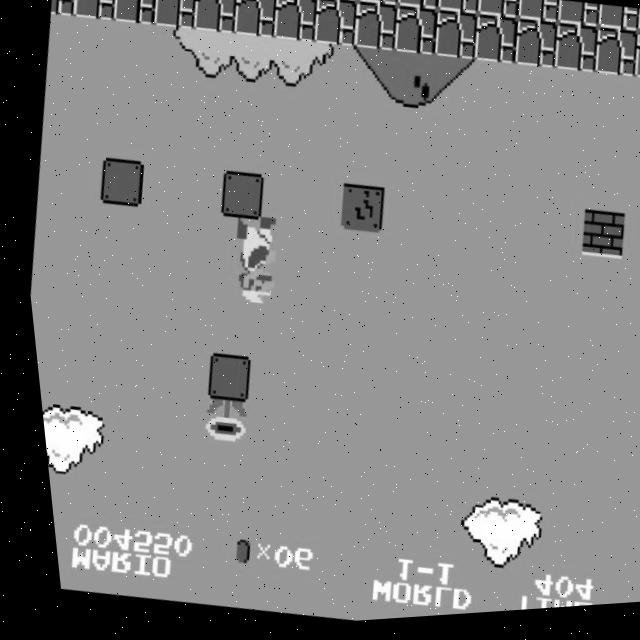1- brick_block: (571, 215, 623, 269)
13- mystery_block: (331, 186, 383, 240)
17- undestructible_block: (348, 3, 400, 58), (388, 8, 440, 63), (428, 13, 480, 68), (468, 18, 520, 73), (508, 23, 560, 78), (548, 28, 600, 83), (588, 33, 640, 87), (308, 0, 360, 53), (268, 0, 321, 48), (228, 0, 281, 44), (188, 0, 240, 38), (149, 0, 200, 33), (514, 0, 560, 33), (554, 5, 600, 38), (594, 10, 640, 43), (110, 0, 161, 28), (474, 0, 520, 28), (70, 0, 120, 23), (434, 0, 481, 23), (394, 0, 441, 18), (628, 38, 640, 91), (354, 0, 401, 13), (48, 0, 80, 17), (314, 0, 360, 8), (634, 16, 640, 47), (275, 0, 320, 3)
3- empty_block: (91, 156, 144, 210), (211, 171, 263, 225), (194, 353, 246, 406)
4- fire_mario: (214, 215, 281, 318)
6- flower: (188, 395, 242, 450)
